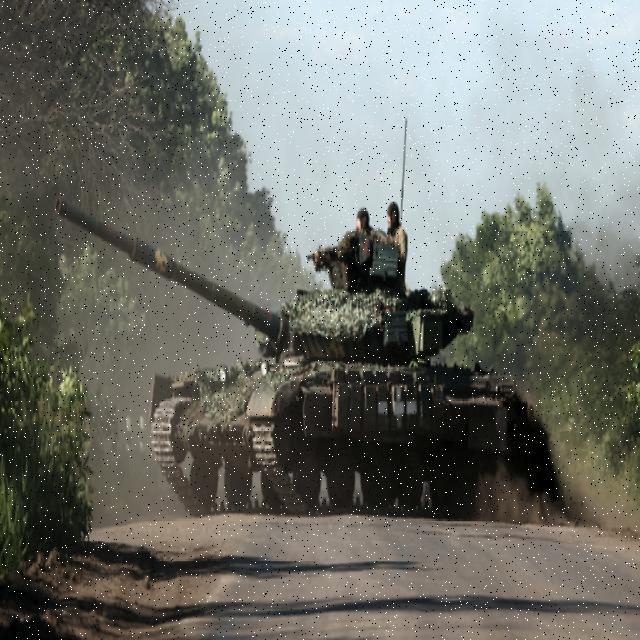TANK: (55, 189, 531, 521)
